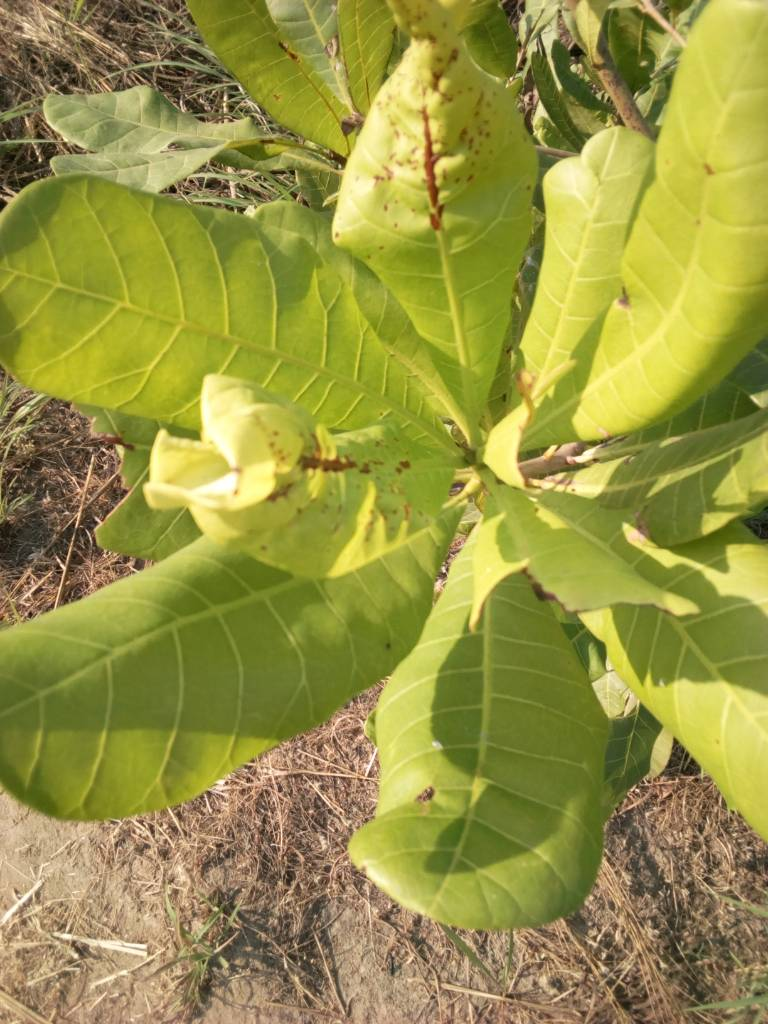Anthracnose: (355, 8, 533, 425), (183, 382, 475, 567)
